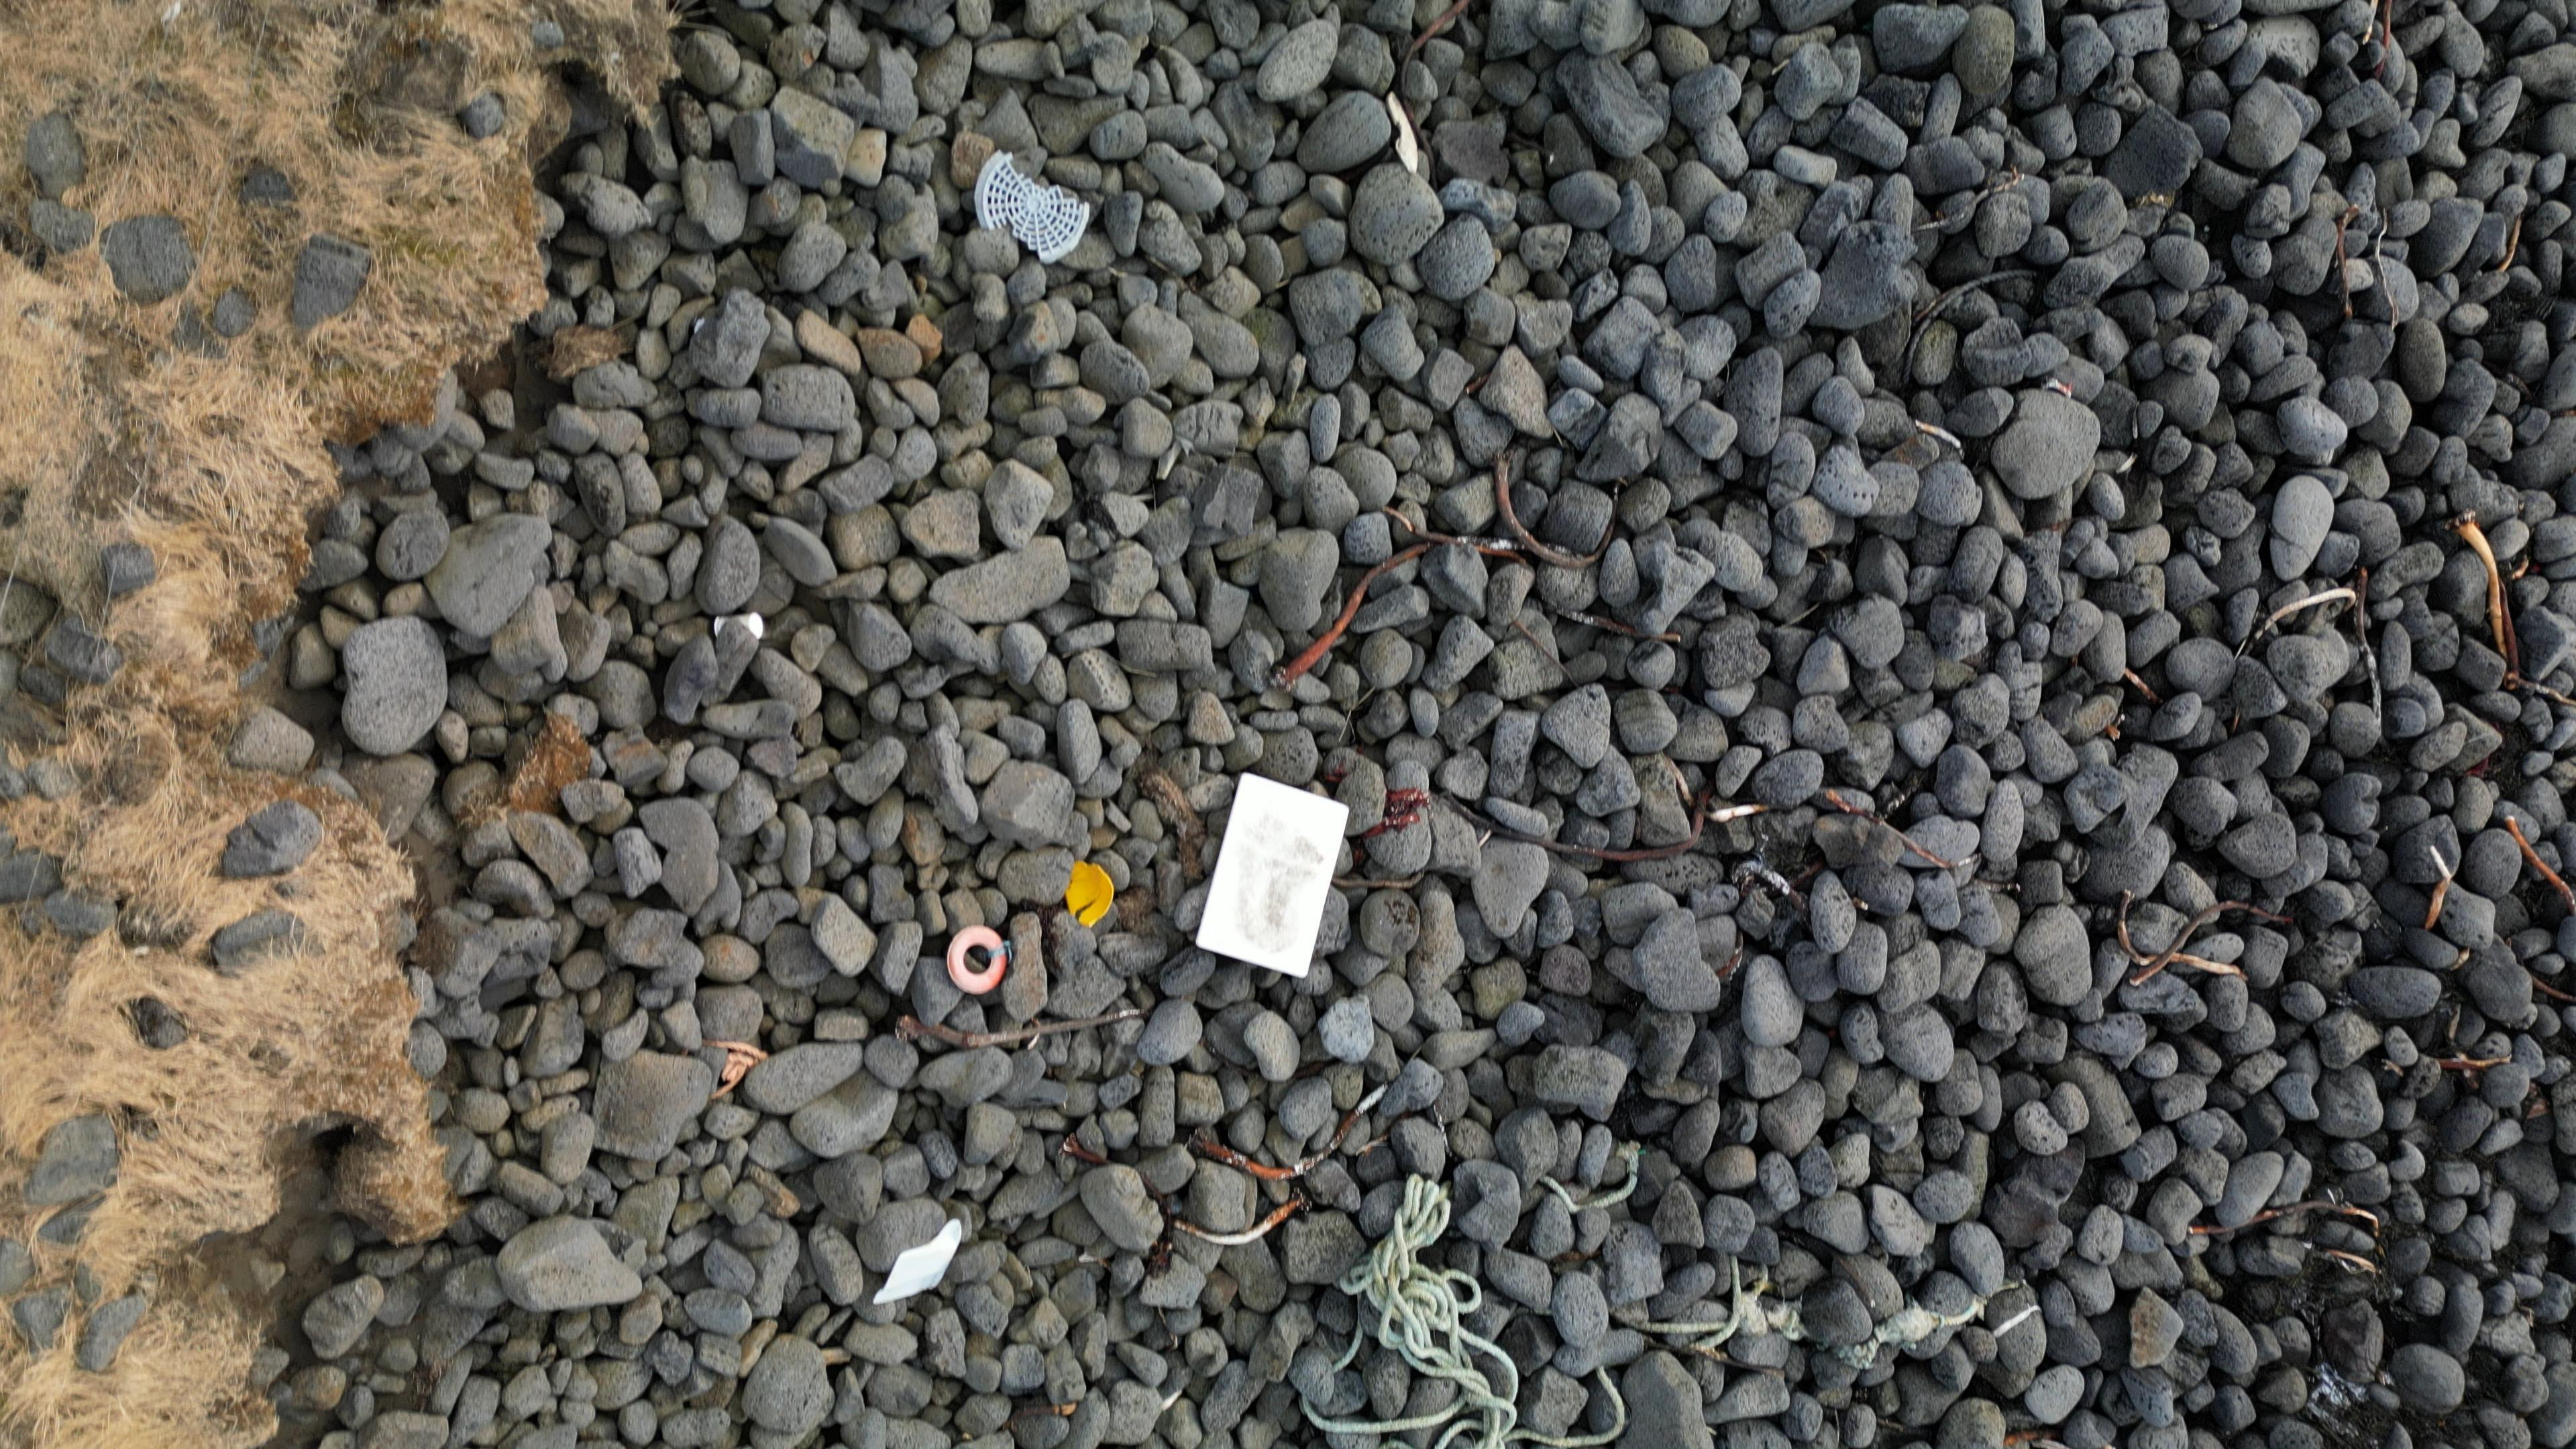trash: (1304, 1177, 1626, 1449), (977, 150, 1092, 262), (876, 1217, 961, 1304), (1539, 1152, 1640, 1207), (947, 925, 1012, 996), (1067, 860, 1116, 925), (1384, 96, 1419, 177), (715, 614, 764, 639), (1334, 1334, 1364, 1369)
